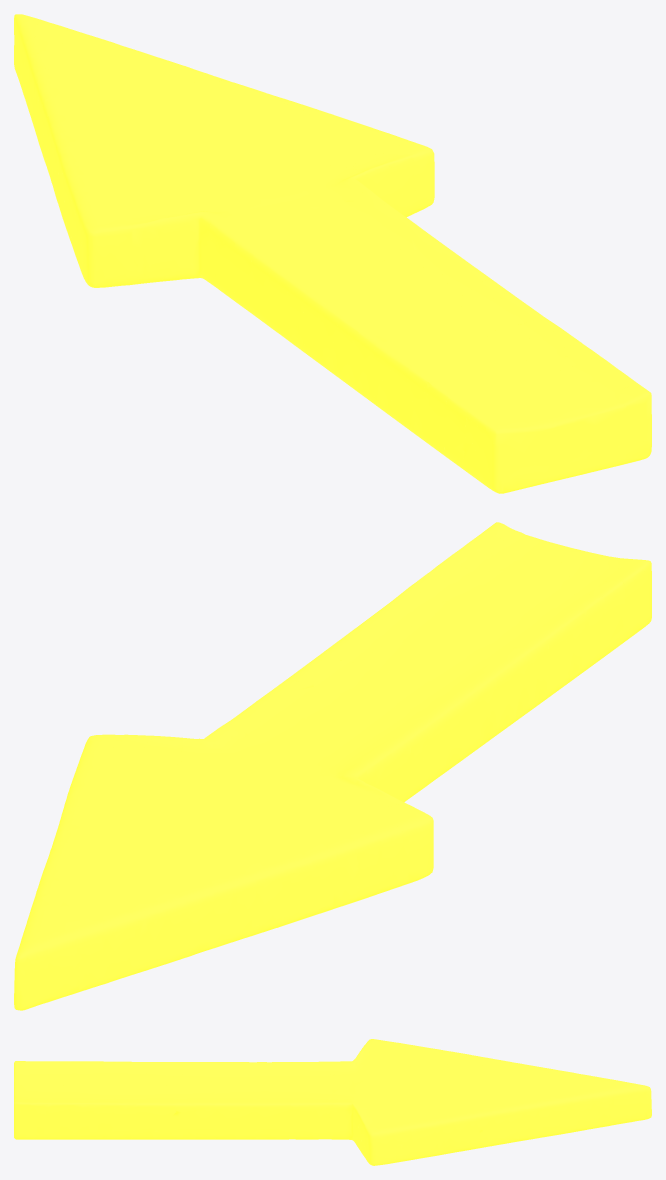
The picture shows the model from 3 angles, top to bottom: view 1: azimuth 30°, elevation 25°; view 2: azimuth 150°, elevation 25°; view 3: azimuth 270°, elevation 25°; orthographic projection. The views are drawn at different scales.
Parts seen in each view (by area): view 1: Mesh_0; view 2: Mesh_0; view 3: Mesh_0.
Boxes of the visible parts, x1,y1,x2,y2 form: Mesh_0: [14, 14, 651, 493]; Mesh_0: [14, 522, 651, 1010]; Mesh_0: [14, 1039, 651, 1165].
Size of the model in its own units: 0.7152 by 0.1349 by 2.
